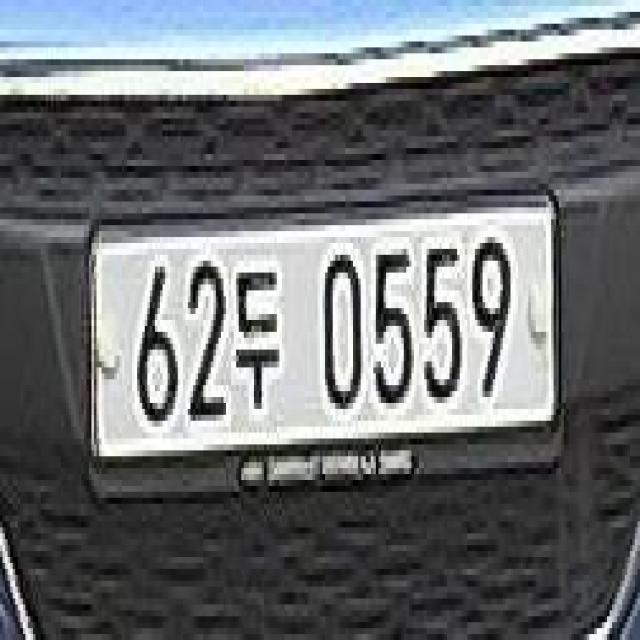0: (318, 248, 366, 418)
2: (186, 254, 230, 434)
5: (420, 236, 466, 408), (371, 243, 414, 414)
6: (132, 256, 180, 432)
9: (471, 230, 516, 410)
du: (233, 255, 284, 424)
license_plate: (82, 197, 566, 479)
